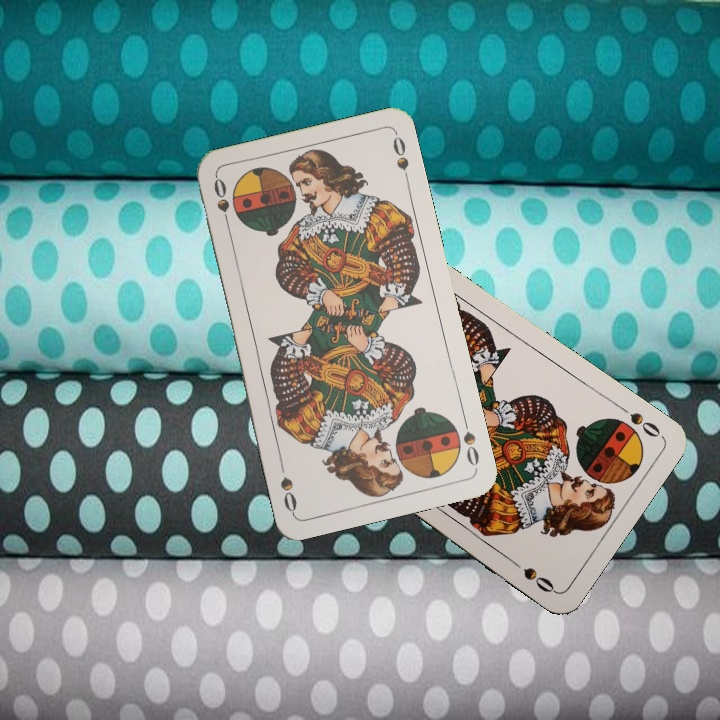SO: (613, 400, 663, 440), (209, 174, 233, 232), (459, 413, 482, 471)
